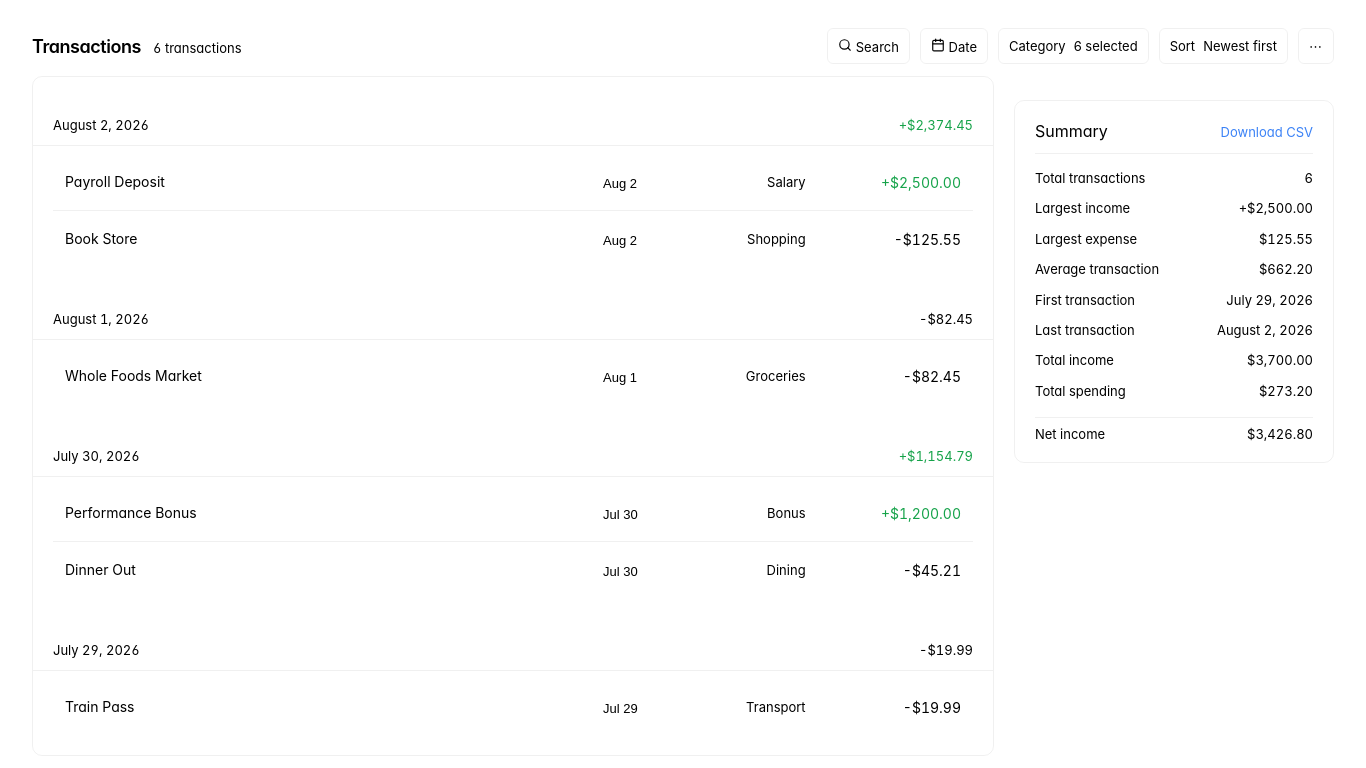
Test: Transactions branch coverage › treats removed transactions as filtered results with zero active summary totals
Expected: the text "Book Store" is shown, [65,230,137,246]
Click the button "Category 6 selected": coordinates (1073, 46) [998,28,1149,64]
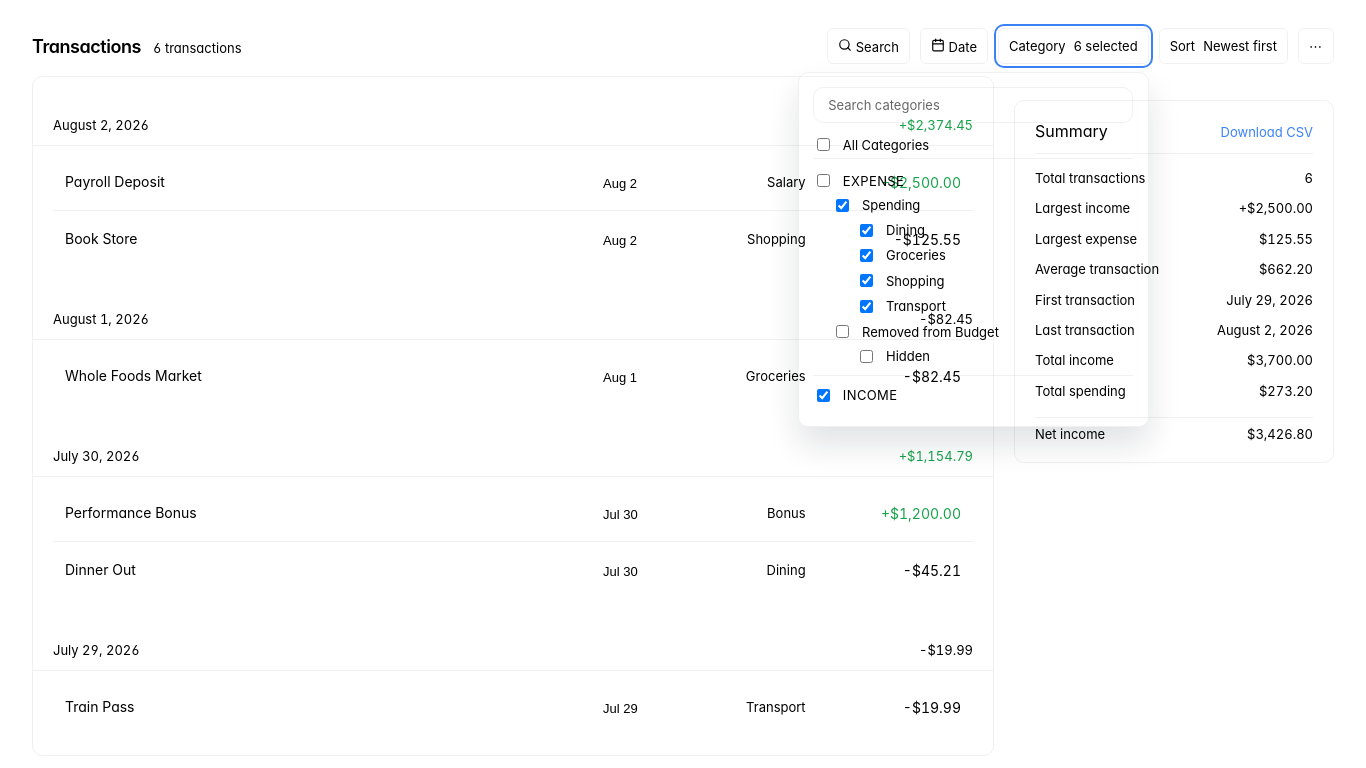
Click the checkbox labelled "All Categories": coordinates (824, 145) [817,138,830,151]
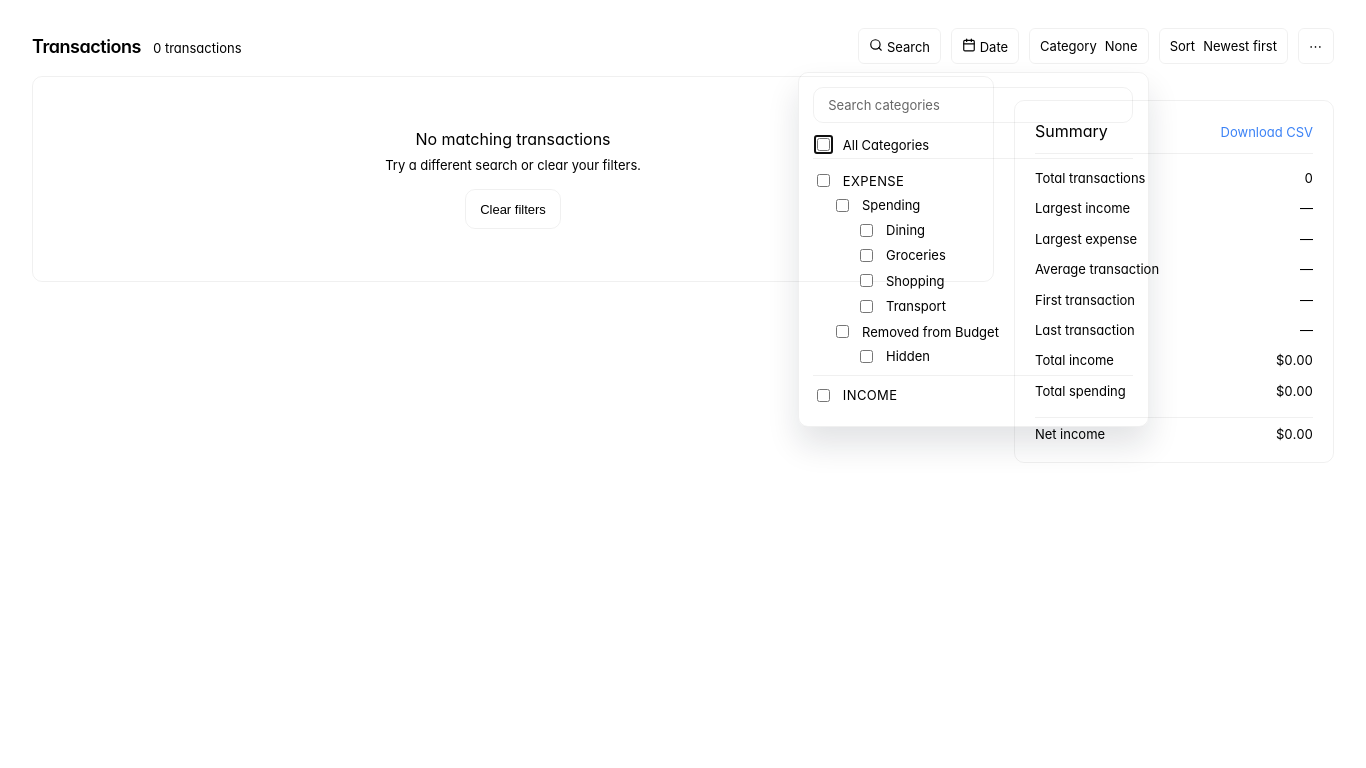
Click the checkbox labelled "Hidden": coordinates (867, 356) [860,350,873,363]
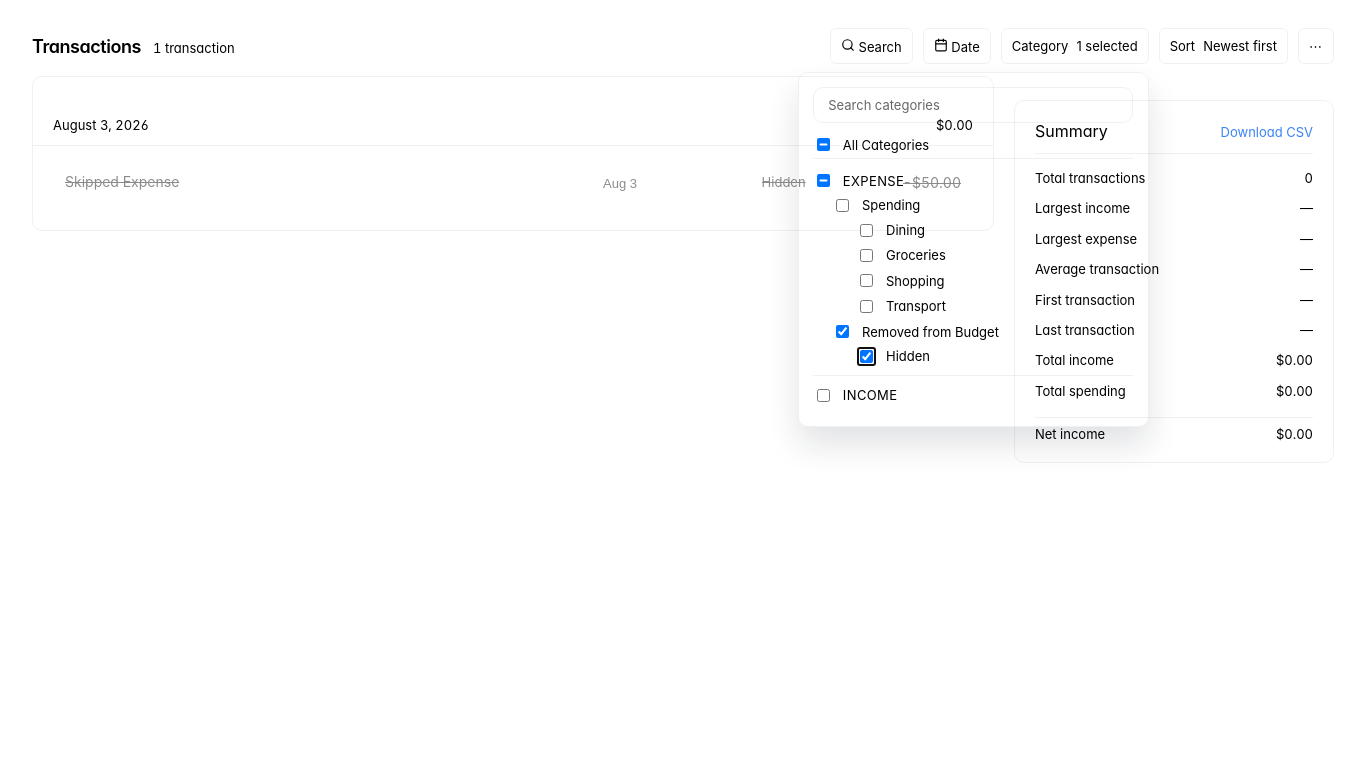
Now the text "0" is shown, box [1305,170,1313,186]
Now the text "1 transaction" is shown, box [153,40,235,56]
Now the text "Skipped Expense" is shown, box [65,172,179,190]
